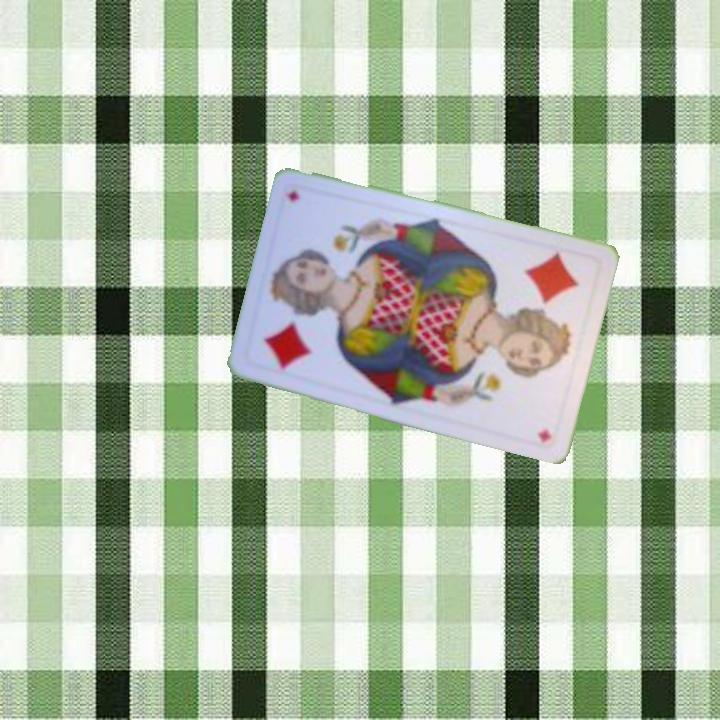d_q.png: (242, 271, 349, 388), (494, 239, 601, 356)
